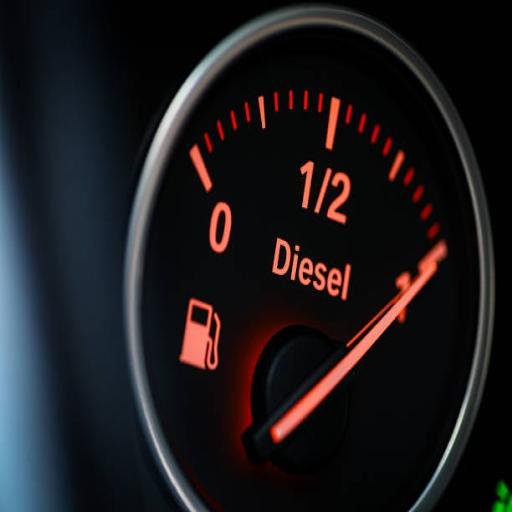empty: (206, 194, 234, 256)
fuel_icon: (177, 292, 223, 380)
guage_area: (116, 2, 493, 512)
needle_center: (252, 315, 359, 481)
needle_tip: (410, 257, 444, 292)
